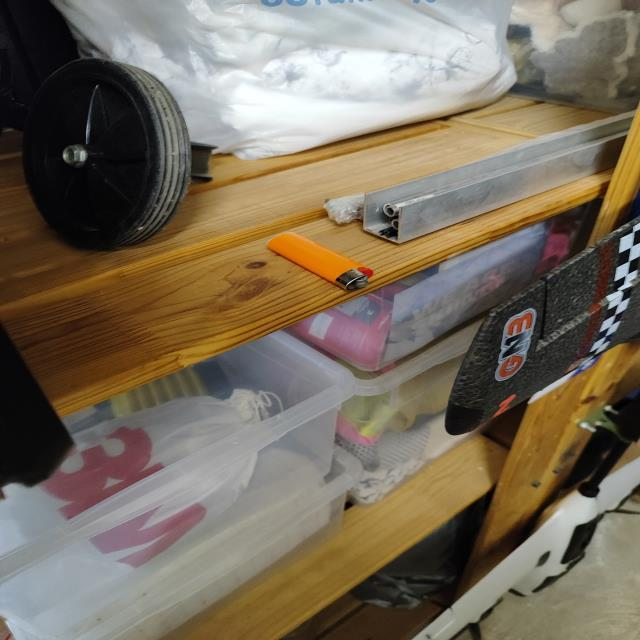lighter: (268, 233, 373, 290)
